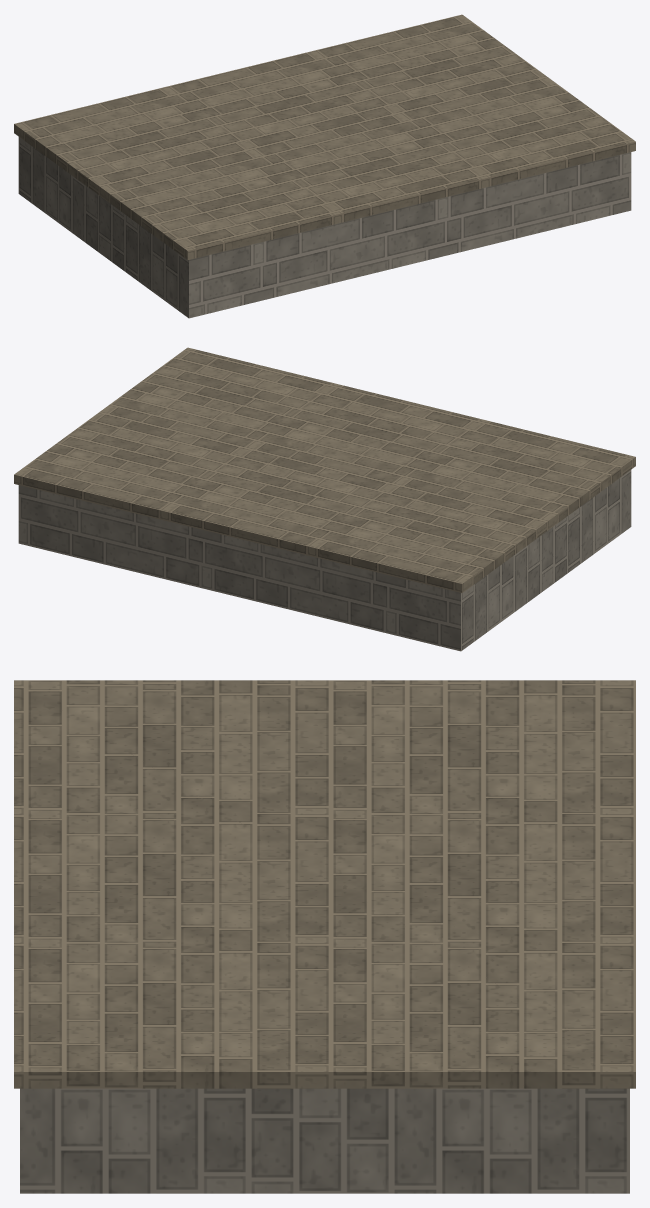
The model's file is SM_Art_MirasCove.gltf.
3 views of the same model, one above another, from view 1: azimuth 30°, elevation 25°; view 2: azimuth 150°, elevation 25°; view 3: azimuth 270°, elevation 25° (orthographic). The views are drawn at different scales.
Visible parts, largest first — view 1: SM_Art_MirasCove; view 2: SM_Art_MirasCove; view 3: SM_Art_MirasCove.
Part boxes in pixels (bbox=[...]): SM_Art_MirasCove: bbox=[14, 14, 635, 318]; SM_Art_MirasCove: bbox=[14, 347, 635, 651]; SM_Art_MirasCove: bbox=[14, 680, 635, 1193].
Size of the model in its own units: 6.08 by 0.9001 by 4.08.
Materials: 2 (2 with a texture image).
